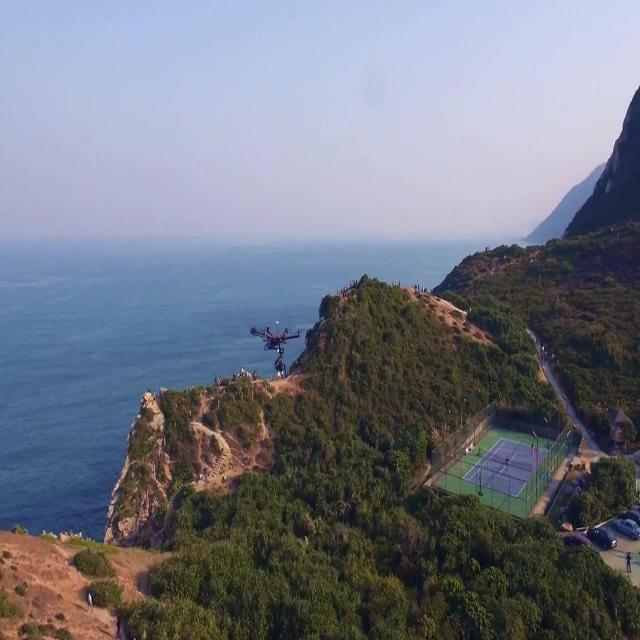UAV: (250, 320, 302, 374)
